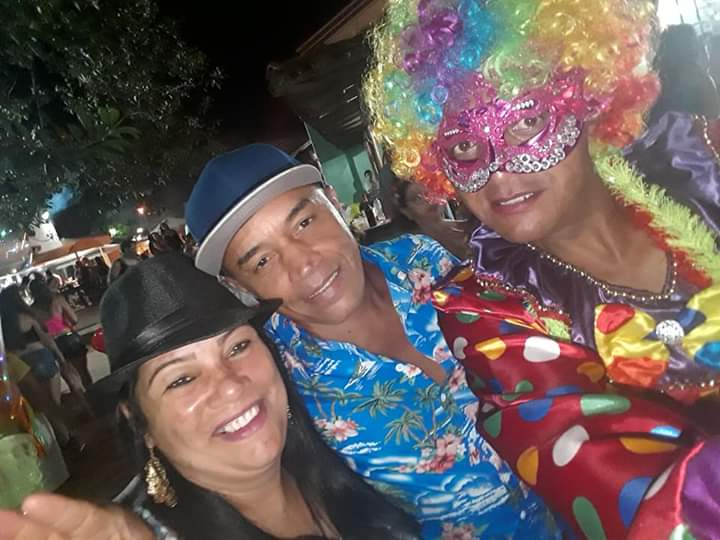shirts: (258, 234, 565, 540)
